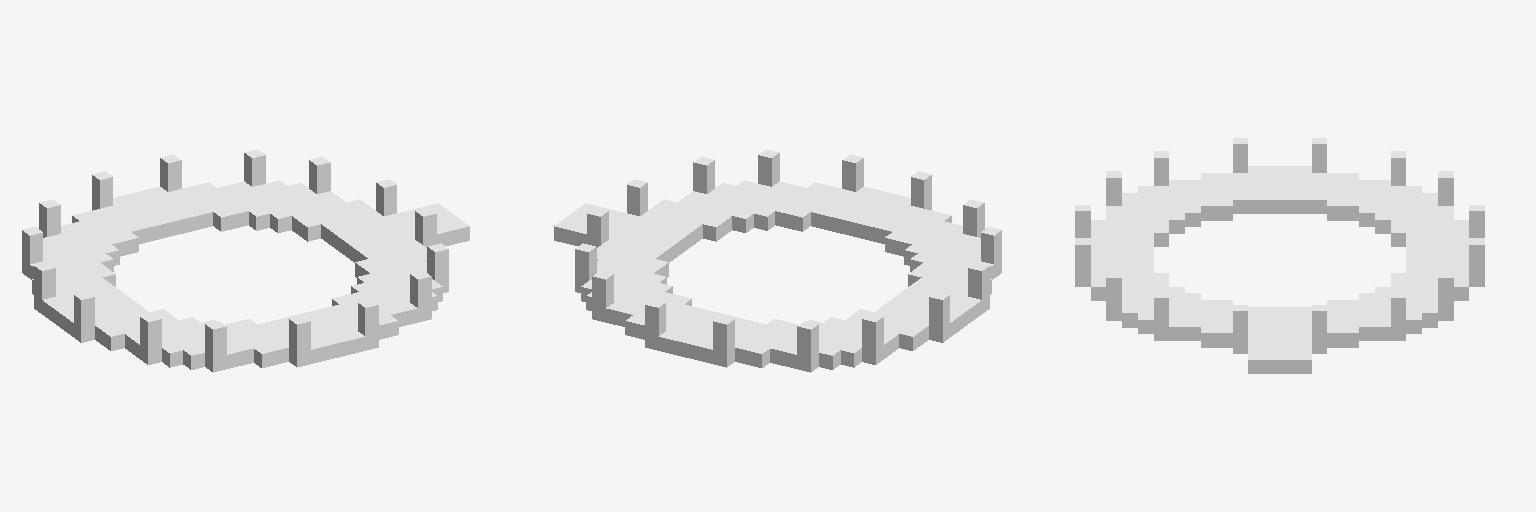
The model's file is end3.obj.
3 views of the same model, side by side, from view 1: azimuth 30°, elevation 25°; view 2: azimuth 150°, elevation 25°; view 3: azimuth 270°, elevation 25° (orthographic).
Visible parts, largest first — view 1: object 1; view 2: object 1; view 3: object 1.
Part boxes in pixels (x1,y1,x2,y2): object 1: (22, 149, 469, 372); object 1: (554, 149, 1001, 372); object 1: (1075, 138, 1484, 373).
Size of the model in its own units: 2.9 by 0.3 by 2.6.